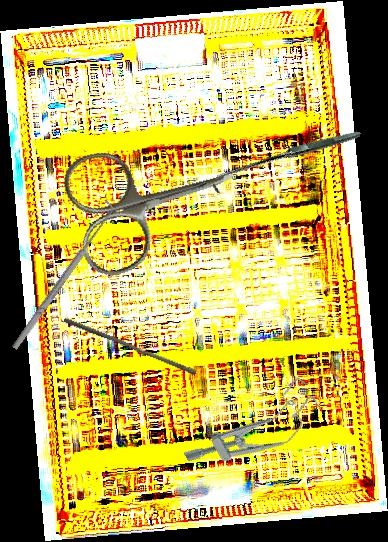Hook Surgical: (210, 87, 362, 236), (5, 199, 119, 352)
Iris Scissors: (57, 117, 252, 283)
Pusher: (61, 317, 199, 376)
Speculum: (178, 373, 329, 490)
